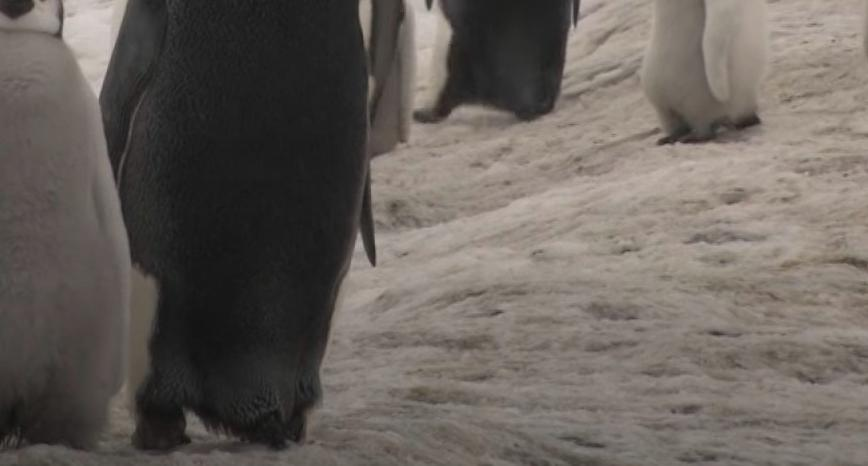Emperor Penguin: (77, 0, 382, 441), (0, 0, 121, 436), (620, 0, 791, 156), (414, 0, 588, 136), (282, 0, 388, 160)
